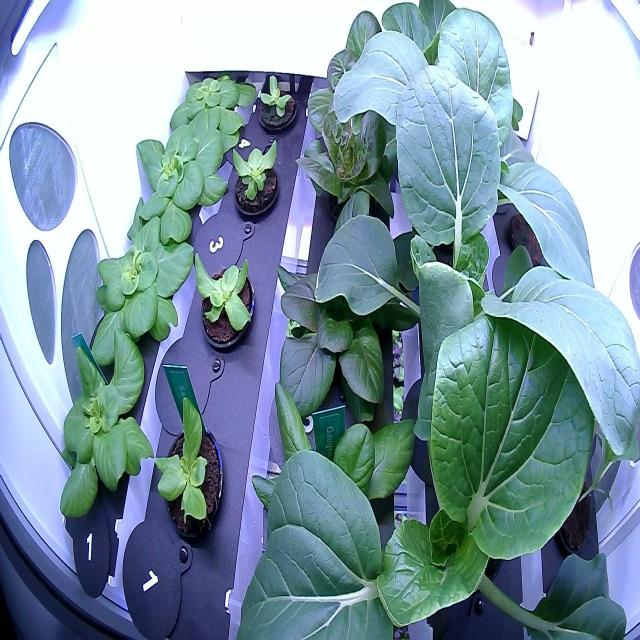young: (269, 178, 426, 431), (46, 323, 154, 533), (293, 74, 418, 235), (79, 212, 199, 374), (127, 116, 232, 256), (148, 388, 231, 554), (303, 0, 411, 120), (161, 50, 258, 160), (188, 242, 261, 362), (226, 133, 284, 225), (250, 66, 304, 138)
